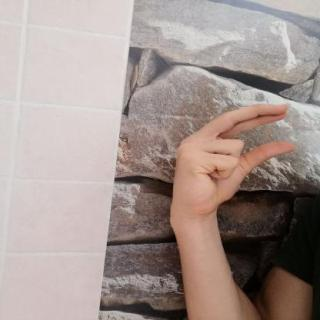DHELL: (161, 97, 300, 221)
